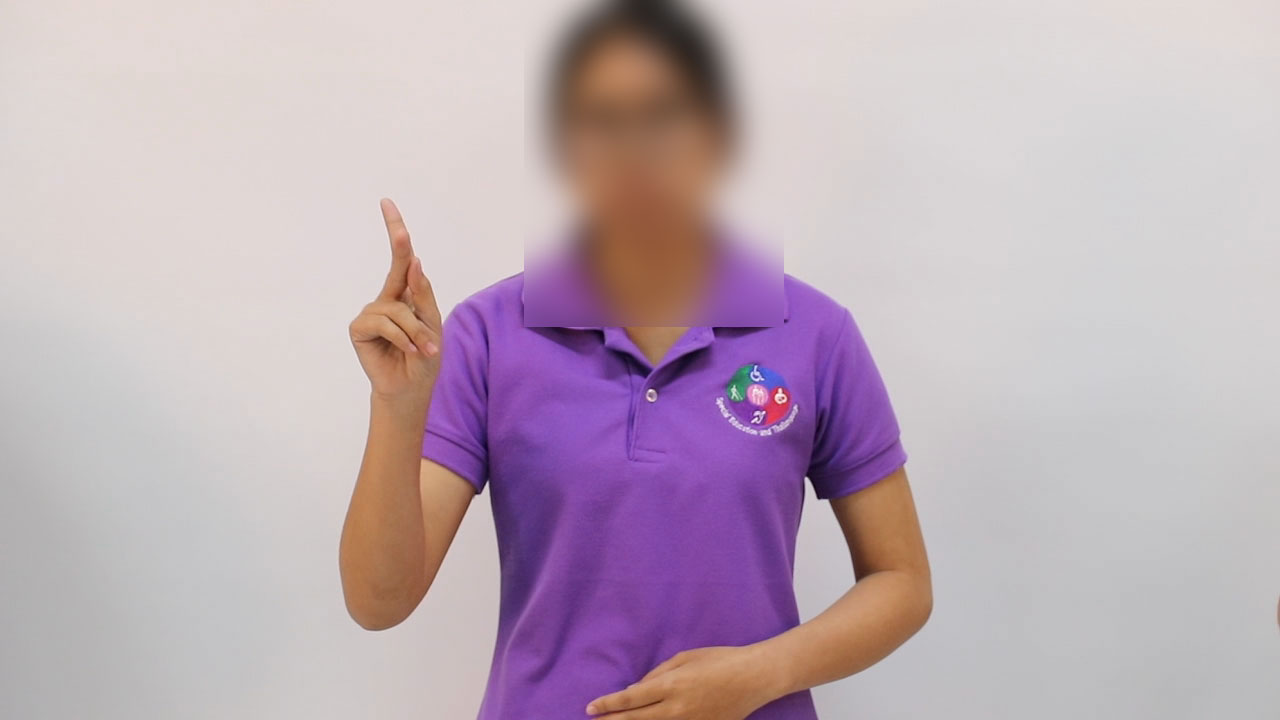ko: (328, 190, 460, 395)
